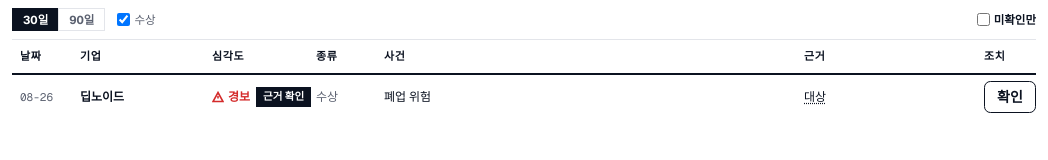
Test: EventTable › re-enables the button and says why when the confirm throws
The width and height of the screenshot is (1048, 160).
Click the button with aria-label "폐업 위험 확인": (1010, 97) [984,81,1036,113]
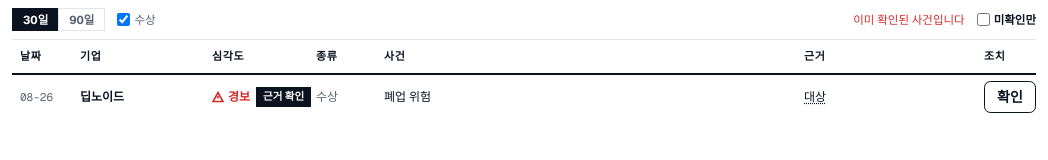
Expected: the message reads "이미 확인된 사건입니다", [853,12,965,27]
